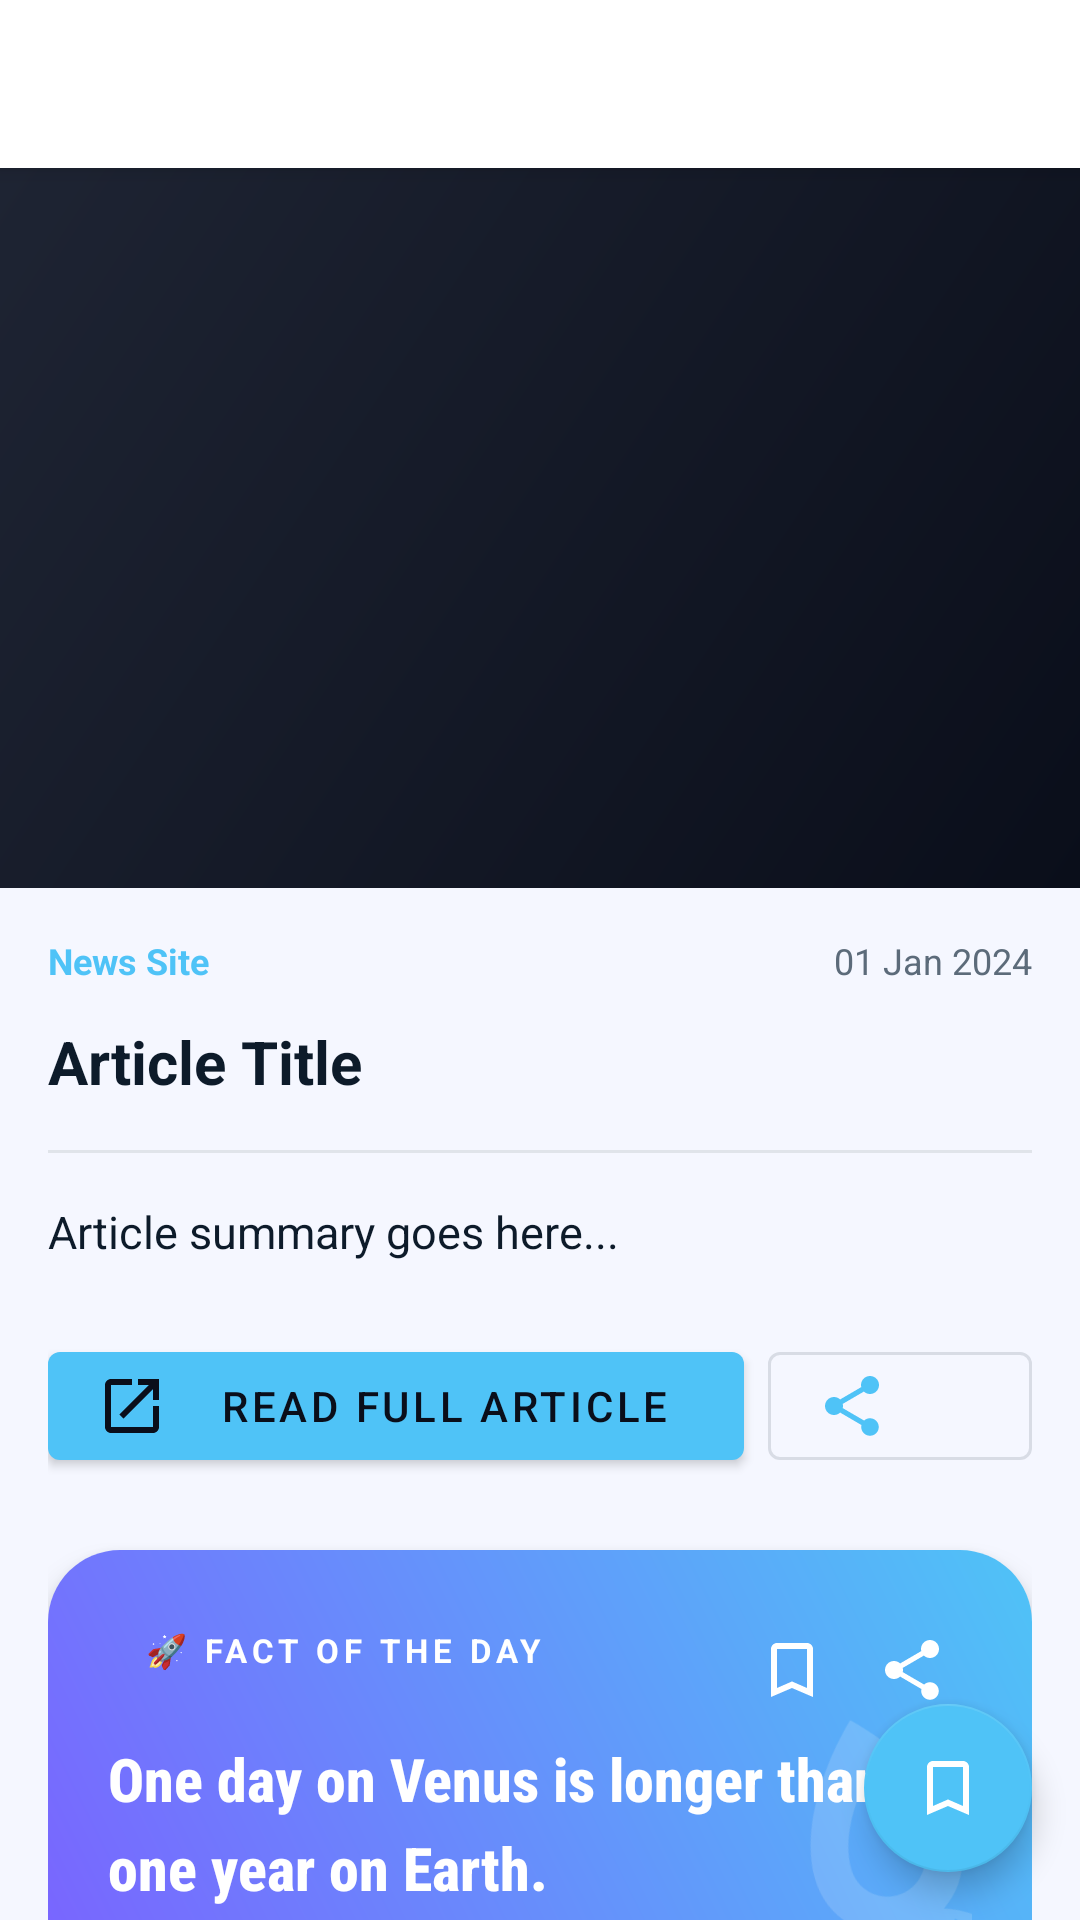

Icon click points for this 1080*1920 phone screenshot, format (x=x, y=y):
bookmark: (x=948, y=1788)
Favorite Fact: (x=792, y=1670)
share: (x=900, y=1406)
Share Fact: (x=912, y=1670)
